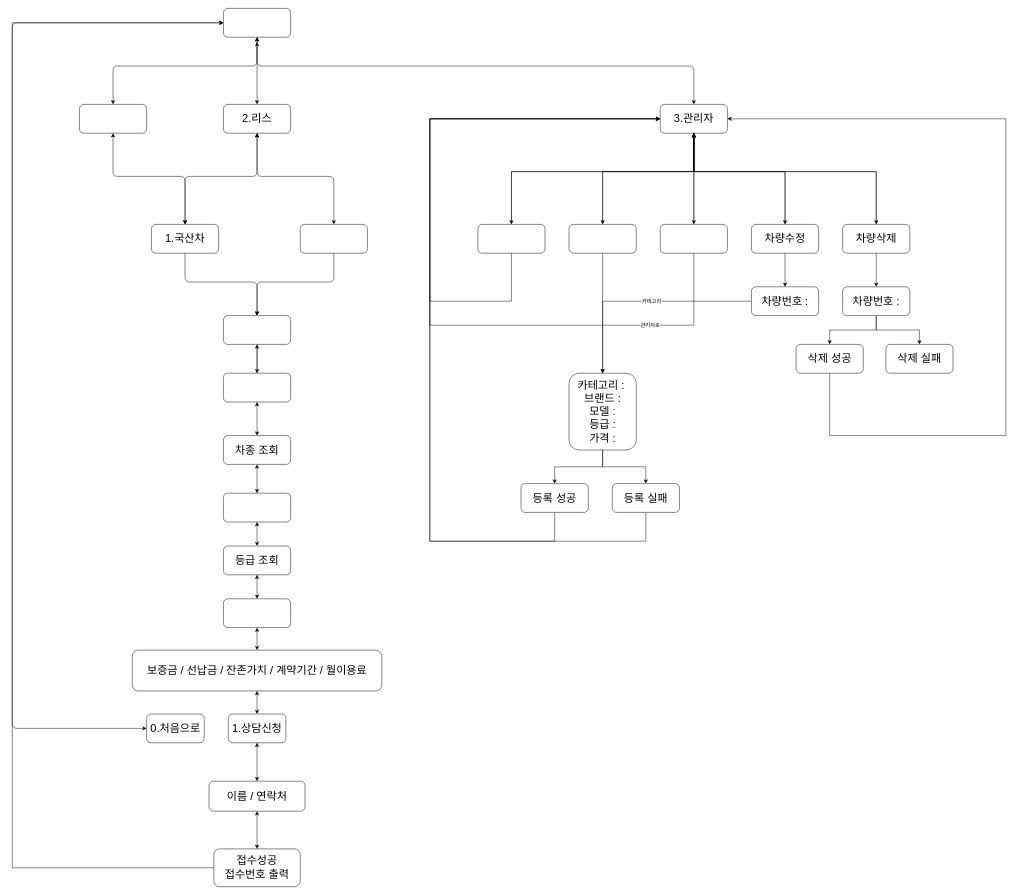
This 1018x895 diagram has some shape labels left out. The shapes that lost their labels are listed below. From the top down, each one's box as (x1, y1, x2, y2) in pixels, then its label:
(223, 8, 291, 37): 메인화면
(79, 104, 147, 133): 1.렌트
(300, 224, 367, 253): 2.수입차
(477, 224, 545, 253): 신청조회
(569, 224, 636, 253): 차량등록
(660, 224, 727, 253): 차량조회
(223, 315, 291, 344): 브랜드 조회
(223, 373, 291, 402): 브랜드 선택
(223, 493, 291, 522): 차종 선택
(223, 598, 291, 628): 등급 선택
